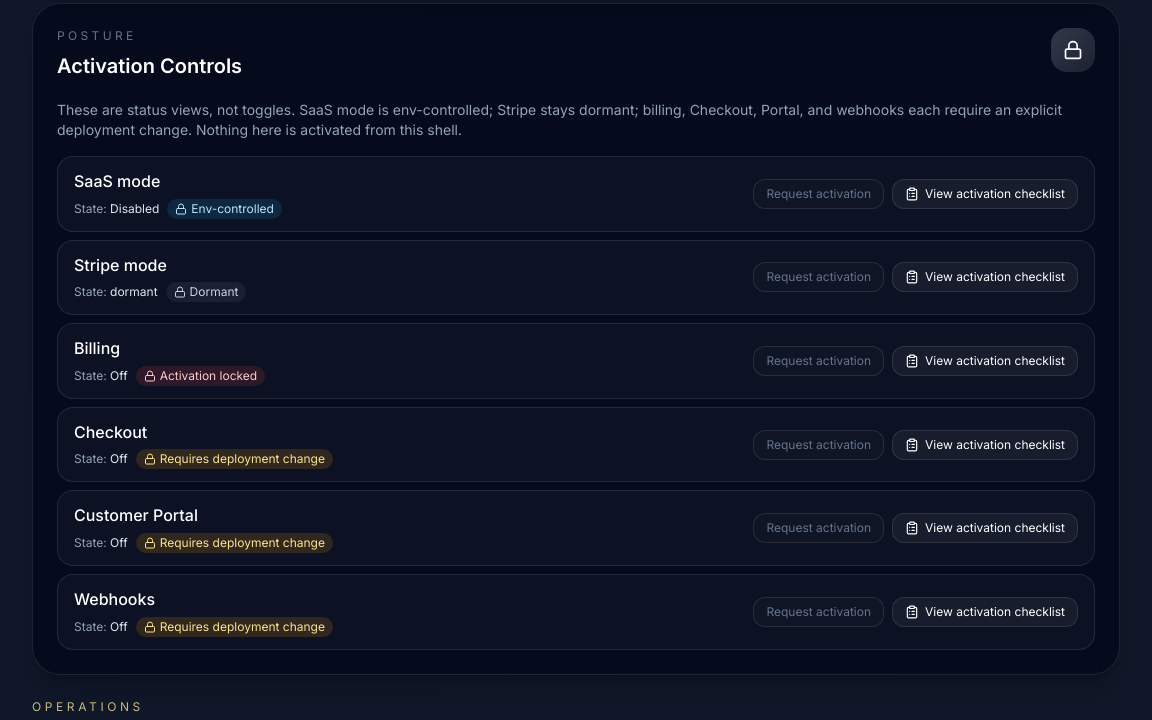
it: Owner Cockpit activation controls › opens a read-only activation checklist without mutating any state
This screenshot has width=1152, height=720.
(page scrolled)
Check: the heading "Activation Controls" is shown, box left=57, top=52, right=242, bottom=80
Click the button "View activation checklist" in the row of "Activation locked": (985, 361) left=892, top=346, right=1078, bottom=376
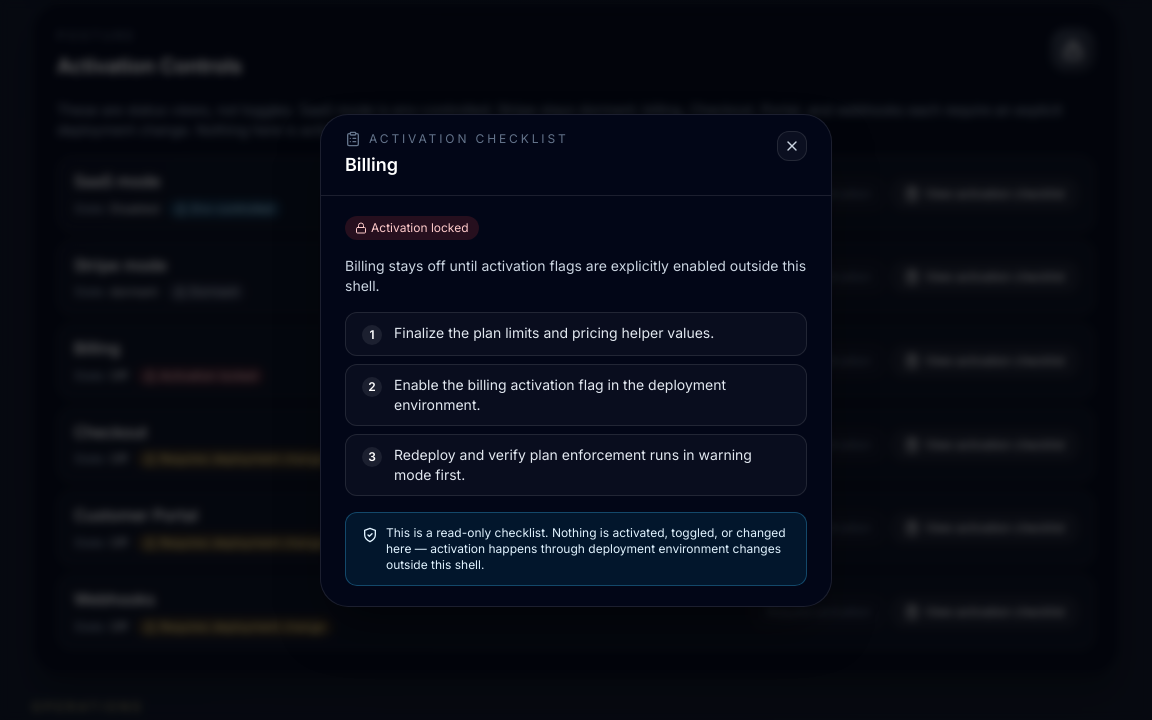
Check: the text "Activation checklist" is shown, box left=345, top=130, right=569, bottom=146
Check: the text "This is a read-only checklist. Nothing is activated, toggled, or changed here" is shown, box left=386, top=524, right=786, bottom=572
